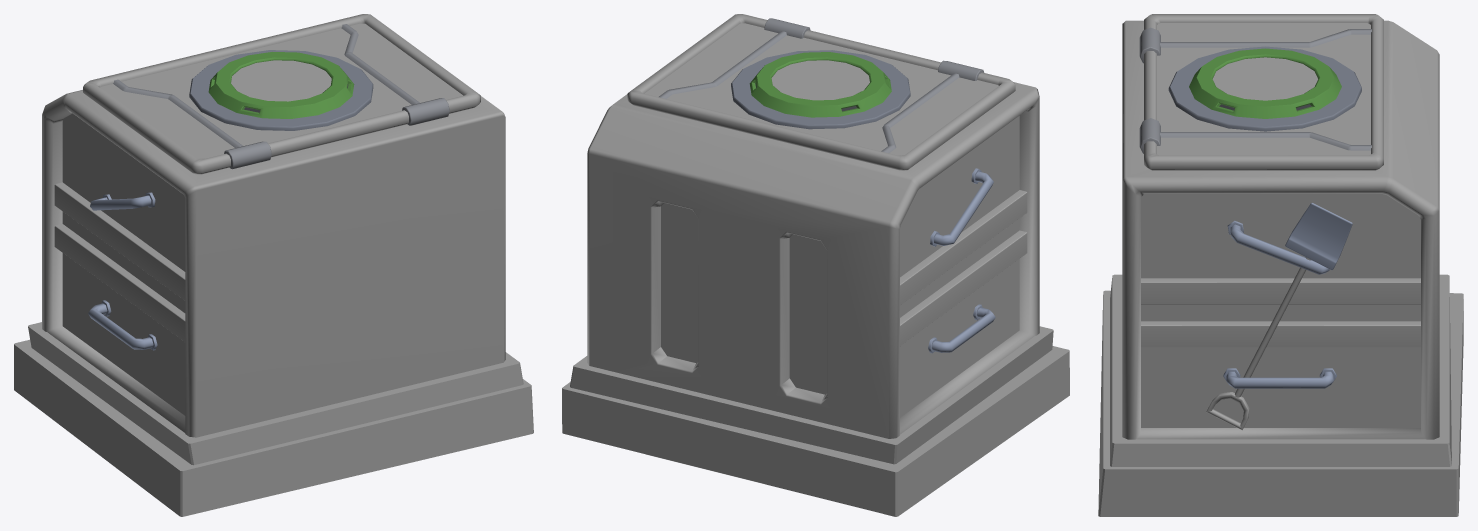
Rendered from Trush.fbx.
3 views of the same model, side by side, from view 1: azimuth 30°, elevation 25°; view 2: azimuth 150°, elevation 25°; view 3: azimuth 270°, elevation 25° (orthographic). The views are drawn at different scales.
Visible parts, largest first — view 1: Base, Ground, Top, Details; view 2: Base, Ground, Top, Details; view 3: Base, Top, Ground, Details, Bala.
Boxes of the visible parts, x1=… form: Base: x1=42, y1=90, x2=505, y2=437; Ground: x1=14, y1=322, x2=533, y2=516; Top: x1=83, y1=14, x2=480, y2=174; Details: x1=54, y1=182, x2=185, y2=350; Base: x1=587, y1=82, x2=1039, y2=438; Ground: x1=562, y1=326, x2=1069, y2=516; Top: x1=627, y1=14, x2=1015, y2=170; Details: x1=900, y1=168, x2=1027, y2=353; Base: x1=1122, y1=20, x2=1439, y2=439; Top: x1=1139, y1=14, x2=1383, y2=170; Ground: x1=1098, y1=274, x2=1463, y2=516; Details: x1=1141, y1=220, x2=1420, y2=388; Bala: x1=1206, y1=203, x2=1352, y2=430.
Size of the model in its own units: 29.1 by 26.7 by 25.15.
